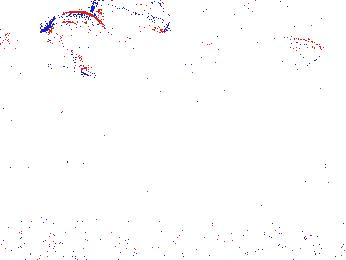moon jellyfish: (241, 37, 323, 95), (171, 6, 233, 73), (46, 11, 110, 75), (224, 1, 298, 48), (91, 1, 171, 34)
